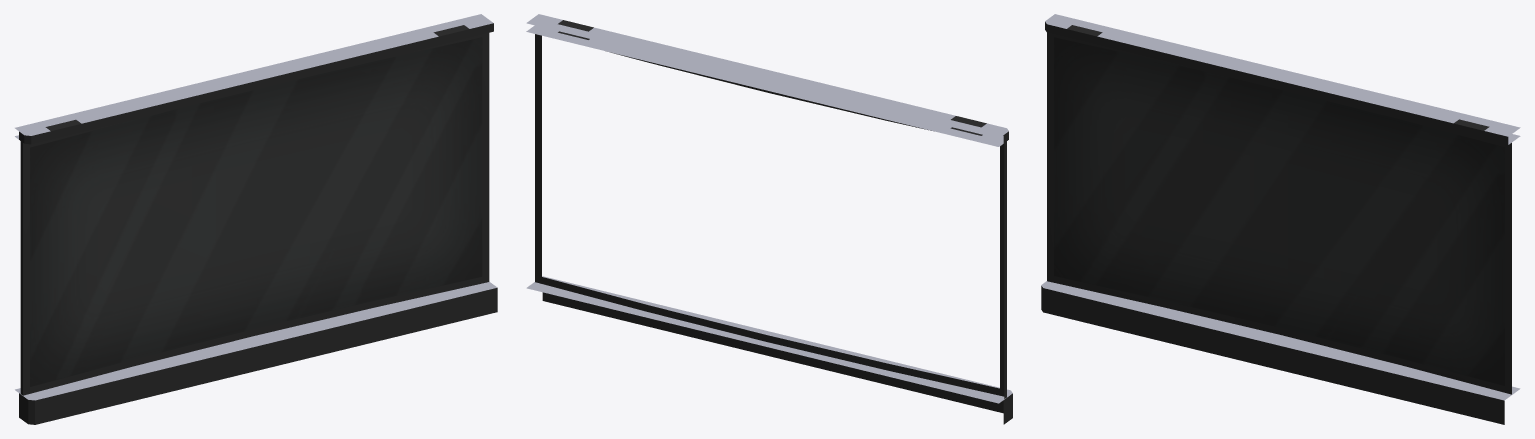
File: interior_E_002.fbx
The picture shows the model from 3 angles, left to right: view 1: azimuth 30°, elevation 25°; view 2: azimuth 150°, elevation 25°; view 3: azimuth 330°, elevation 25°; orthographic projection.
Visible parts, largest first — view 1: interior_E_002; view 2: interior_E_002; view 3: interior_E_002.
Part boxes in pixels (x1,y1,x2,y2): interior_E_002: [15, 14, 497, 424]; interior_E_002: [526, 14, 1012, 424]; interior_E_002: [1041, 14, 1520, 424].
Size of the model in its own units: 246 by 144 by 14.93.
